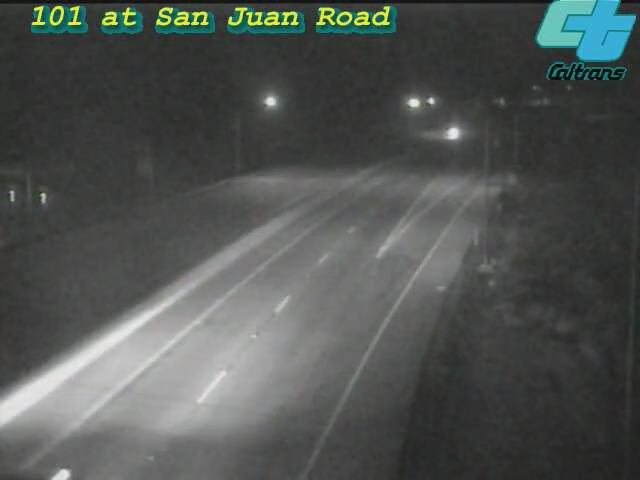vehicle: (1, 421, 78, 480), (430, 108, 480, 158)
